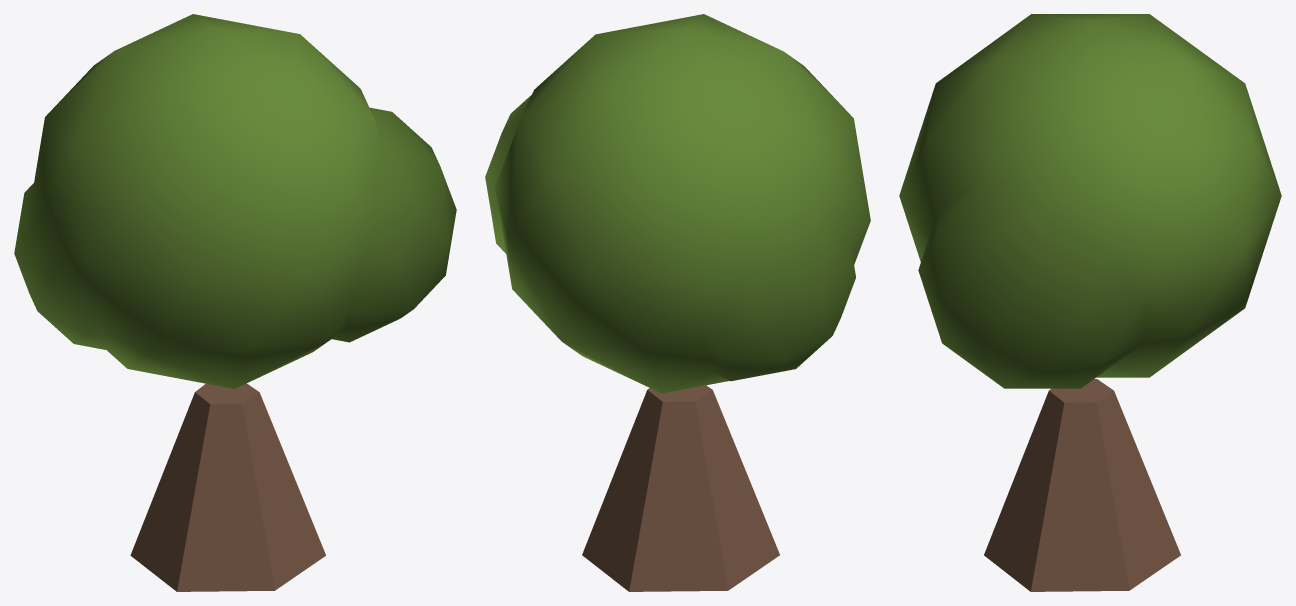
Rendered from tree_c.glb.
The picture shows the model from 3 angles, left to right: view 1: azimuth 30°, elevation 25°; view 2: azimuth 150°, elevation 25°; view 3: azimuth 270°, elevation 25°; orthographic projection.
Visible parts, largest first — view 1: Canopy, Trunk; view 2: Canopy, Trunk; view 3: Canopy, Trunk.
Part boxes in pixels (x1,y1,x2,y2): Canopy: [14, 14, 456, 388]; Trunk: [130, 383, 325, 591]; Canopy: [485, 14, 870, 393]; Trunk: [582, 385, 779, 591]; Canopy: [899, 14, 1281, 388]; Trunk: [984, 379, 1180, 591].
Bounding box in the file's own units: 2.24 × 3.05 × 2.
